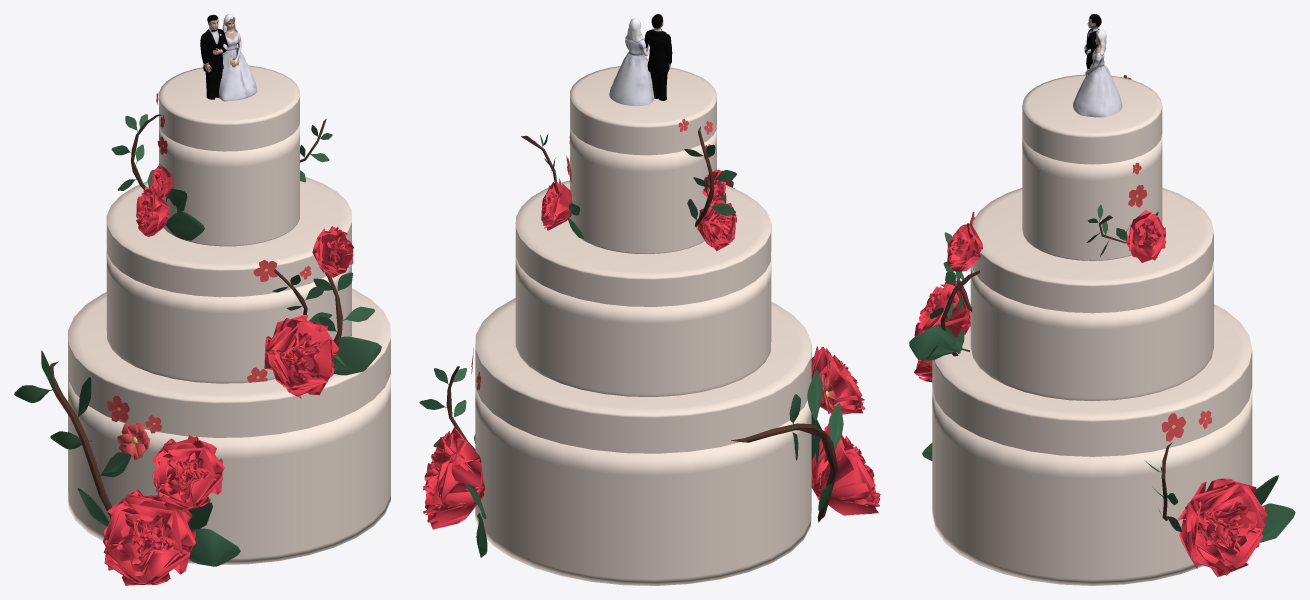
File: 3-tier-white-roses-bridegroom.glb
3 renders of one model, left to right at view 1: azimuth 30°, elevation 25°; view 2: azimuth 150°, elevation 25°; view 3: azimuth 270°, elevation 25°, orthographic. The views are drawn at different scales.
Visible parts, largest first — view 1: Cylinder.022, Cylinder.014, Cylinder.021, grid.042, grid.044, grid.040, Plane.093, 13501_Cake_Topper_Bride_Groom_v1_L1.002, grid.043, Plane.087, Plane.091, Plane.095 (+7 smaller); view 2: Cylinder.022, Cylinder.014, Cylinder.021, grid.029, 13501_Cake_Topper_Bride_Groom_v1_L1.002, grid.042, Plane.093, grid.040, grid.045, Plane.092, grid.047, Plane.084; view 3: Cylinder.022, Cylinder.014, Cylinder.021, grid.029, 13501_Cake_Topper_Bride_Groom_v1_L1.002, grid.044, grid.047, Plane.087, grid.043, Plane.095, Plane.082, Plane.084 (+1 smaller).
Part boxes in pixels (box(x1,y1,x2,y2)): Cylinder.022: box(68, 288, 390, 564); Cylinder.014: box(106, 177, 351, 383); Cylinder.021: box(159, 65, 299, 246); grid.042: box(103, 489, 196, 585); grid.044: box(264, 314, 338, 398); grid.040: box(151, 435, 224, 512); Plane.093: box(14, 350, 131, 526); 13501_Cake_Topper_Bride_Groom_v1_L1.002: box(200, 14, 257, 101); grid.043: box(312, 226, 353, 277); Plane.087: box(333, 336, 381, 375); Plane.091: box(189, 528, 240, 566); Plane.095: box(313, 272, 374, 365); Cylinder.022: box(475, 298, 811, 585); Cylinder.014: box(515, 180, 771, 396); Cylinder.021: box(570, 66, 716, 254); grid.029: box(423, 427, 484, 529); 13501_Cake_Topper_Bride_Groom_v1_L1.002: box(609, 14, 672, 106); grid.042: box(811, 423, 880, 515); Plane.093: box(731, 369, 843, 522); grid.040: box(811, 346, 865, 414); grid.045: box(697, 200, 737, 250); Plane.092: box(684, 126, 736, 227); grid.047: box(541, 180, 572, 230); Plane.084: box(419, 366, 475, 450); Cylinder.022: box(932, 304, 1252, 585); Cylinder.014: box(970, 187, 1213, 401); Cylinder.021: box(1022, 74, 1162, 260); grid.029: box(1177, 478, 1267, 576); 13501_Cake_Topper_Bride_Groom_v1_L1.002: box(1073, 14, 1122, 117); grid.044: box(914, 279, 970, 337); grid.047: box(1124, 210, 1166, 262); Plane.087: box(909, 324, 969, 360); grid.043: box(947, 223, 982, 271); Plane.095: box(927, 270, 980, 358); Plane.082: box(1259, 503, 1295, 542); Plane.084: box(1144, 442, 1182, 531).
Size of the model in its own units: 5.28 by 6.96 by 4.9.
Materials: 7 (1 with a texture image).
